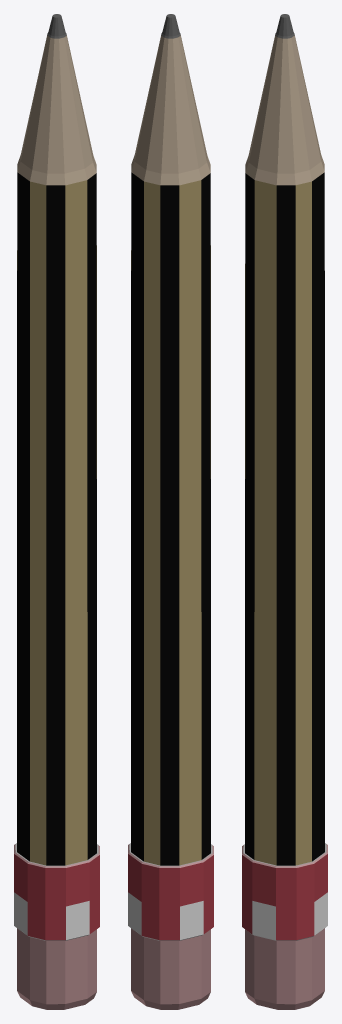
Rendered from pencil.fbx.
The picture shows the model from 3 angles, left to right: view 1: azimuth 30°, elevation 25°; view 2: azimuth 210°, elevation 25°; view 3: azimuth 330°, elevation 25°; orthographic projection.
Parts seen in each view (by area): view 1: Multiverse_Academy_platform_models:Pencil_model; view 2: Multiverse_Academy_platform_models:Pencil_model; view 3: Multiverse_Academy_platform_models:Pencil_model.
Part boxes in pixels (x1,y1,x2,y2): Multiverse_Academy_platform_models:Pencil_model: (14, 14, 99, 1009); Multiverse_Academy_platform_models:Pencil_model: (128, 14, 213, 1009); Multiverse_Academy_platform_models:Pencil_model: (242, 14, 327, 1009).
Size of the model in its own units: 2.95 by 38.31 by 2.95.
